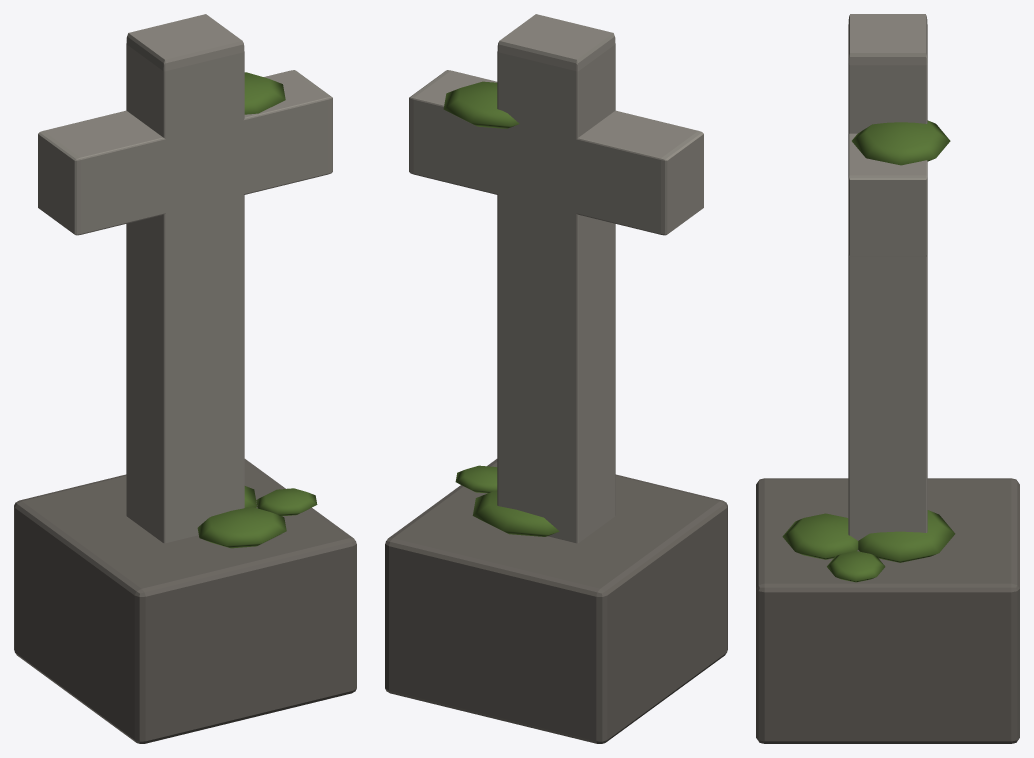
Rendered from wegkreuz_stein.glb.
3 renders of one model, left to right at view 1: azimuth 30°, elevation 25°; view 2: azimuth 150°, elevation 25°; view 3: azimuth 270°, elevation 25°, orthographic. The views are drawn at different scales.
Parts seen in each view (by area): view 1: Cube; view 2: Cube; view 3: Cube.
Part boxes in pixels (x1,y1,x2,y2): Cube: (14,14,356,743); Cube: (385,14,727,743); Cube: (756,14,1019,743).
Size of the model in its own units: 0.7 by 1.65 by 0.6.
